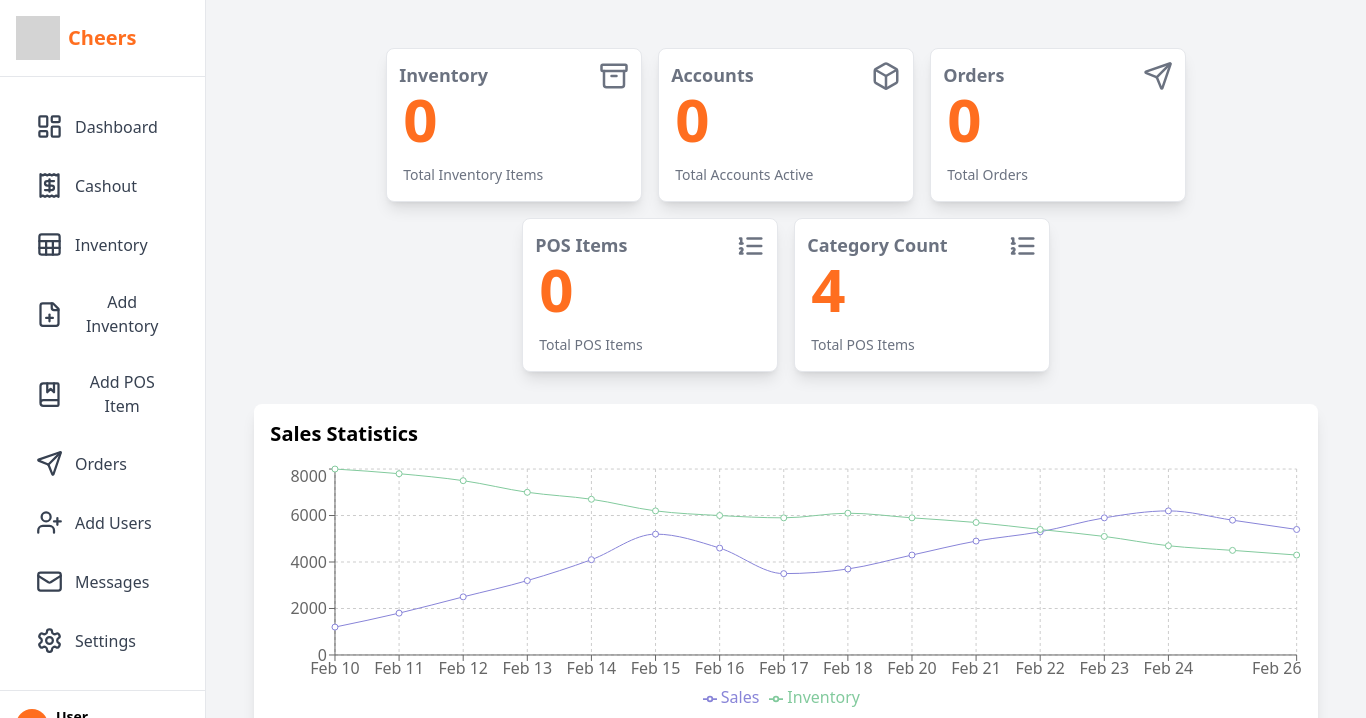
Test case: tc:045: all pages load › passes if Add Inventory button navigates to Add Inventory page
Step 1. Click the button "Add Inventory" → (103, 314), box [20,274,185,354]
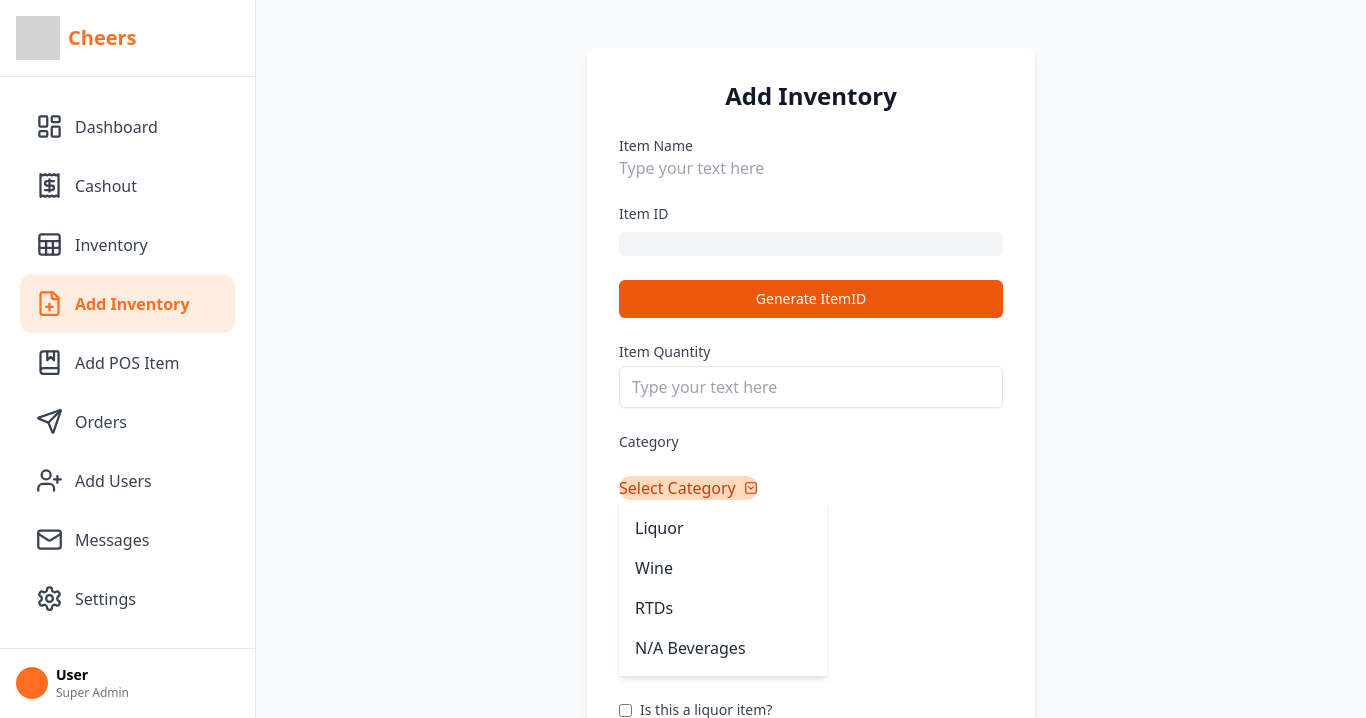
Check: the heading "Add Inventory" is shown, box [725,79,897,112]
